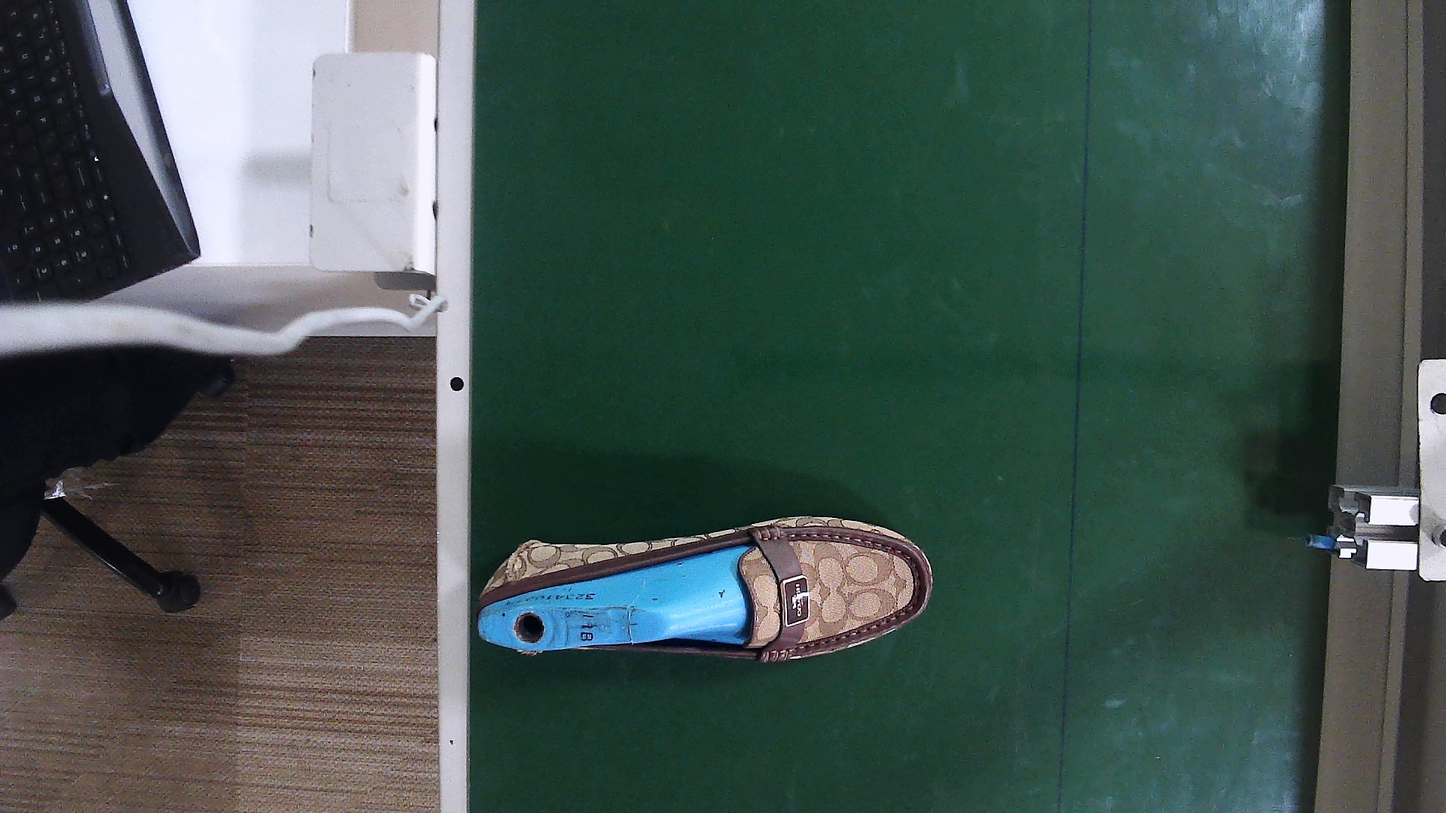shoe: (478, 521, 931, 661)
